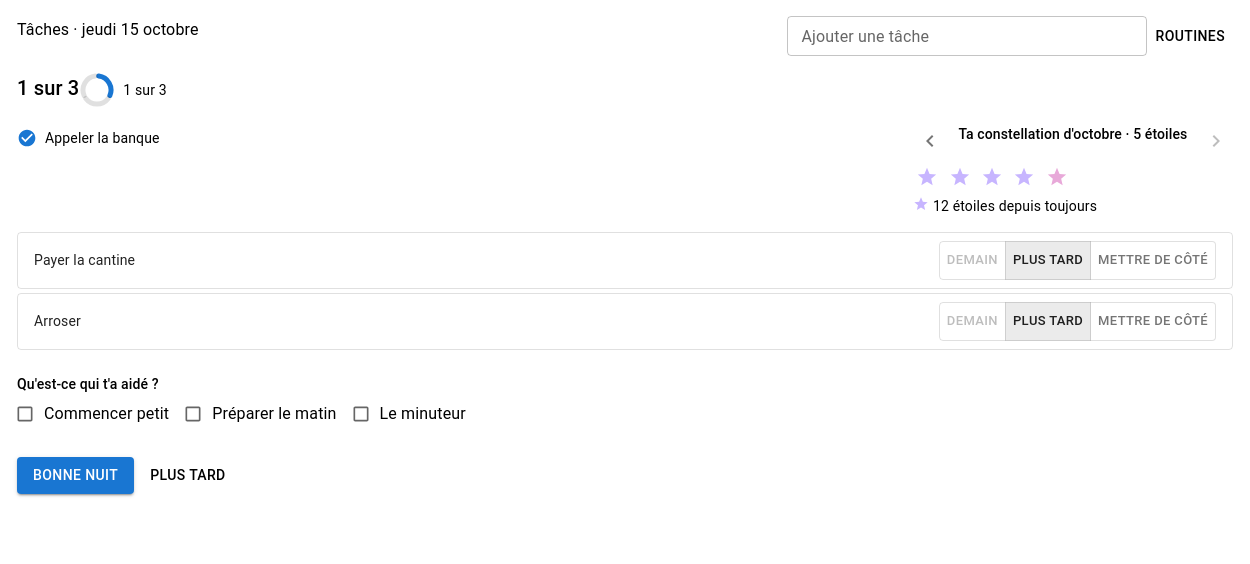
TaskBoard › « Le soir » — the review (MAG-500) › « Plus tard » shows the day, writes nothing, and « Le soir » opens it on demand
The image size is (1250, 564).
Click the 3rd button "Plus tard": (188, 476) [142,458,234,494]
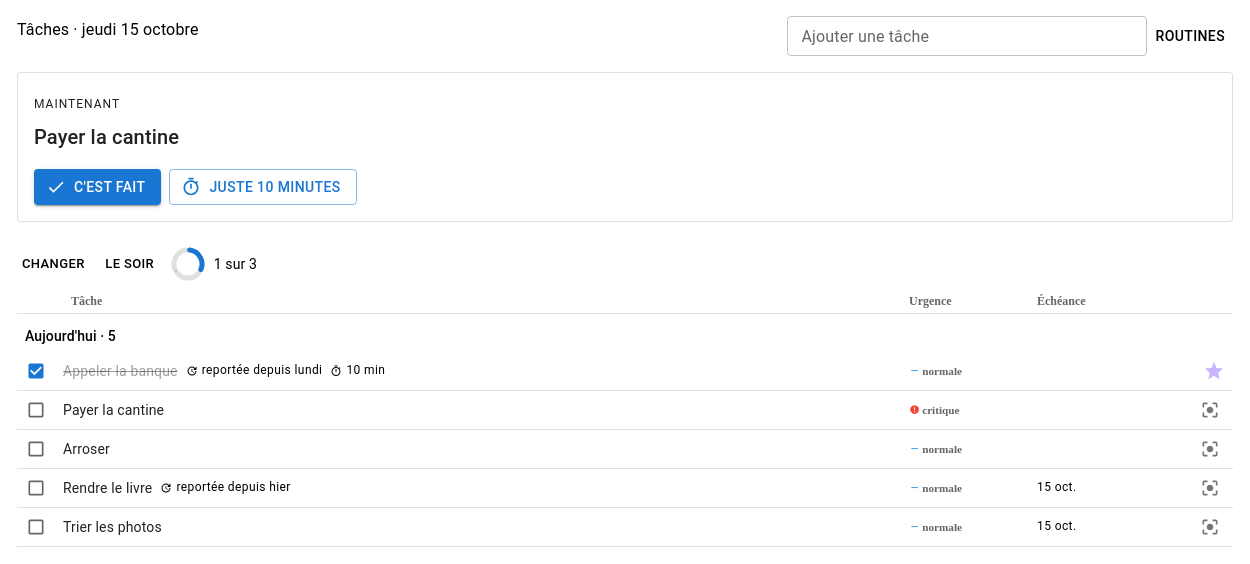
Check: the element "Maintenant" is shown, box [17,72,1233,222]
Click the button "Le soir": (130, 264) [98,246,162,282]
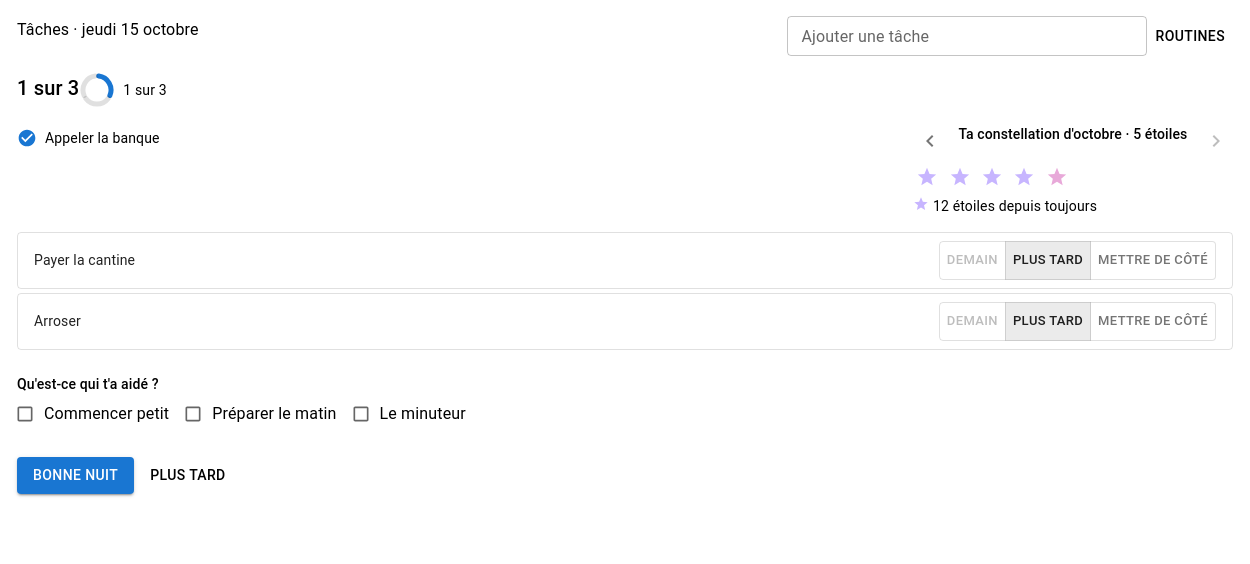
Check: the element named "Le soir" is shown
